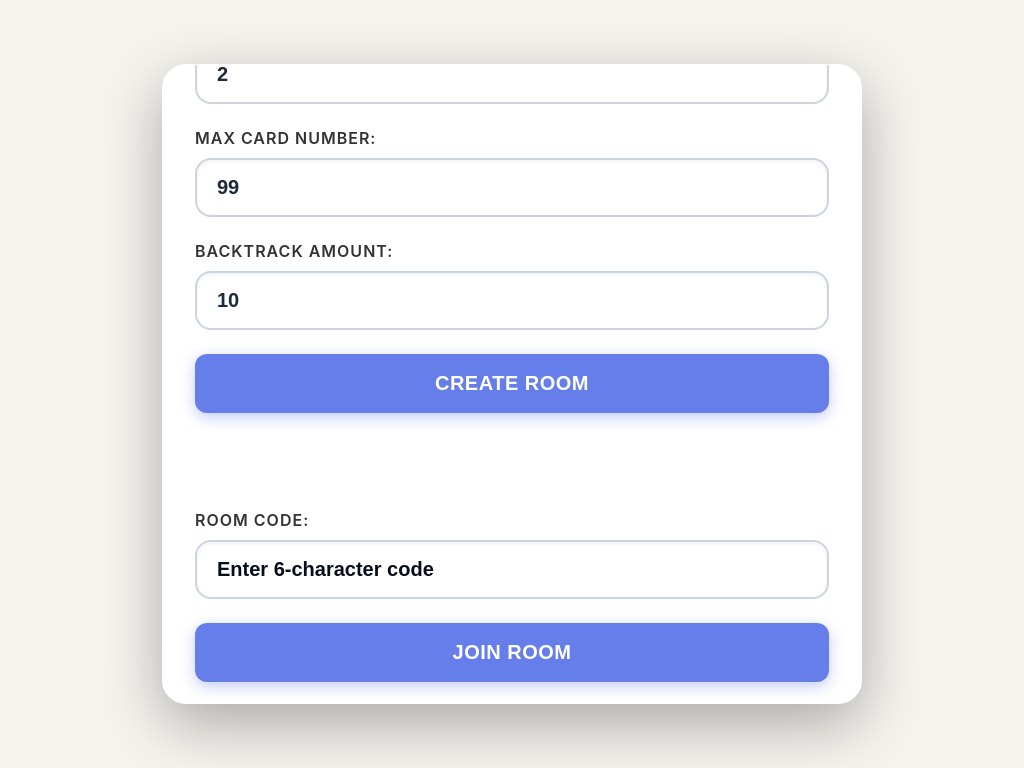
Test case: App Component Integration › shows error if name is missing when creating room
(page scrolled)
Click the button "Create Room". click: (512, 384)
box: [195, 354, 829, 413]
(page scrolled)
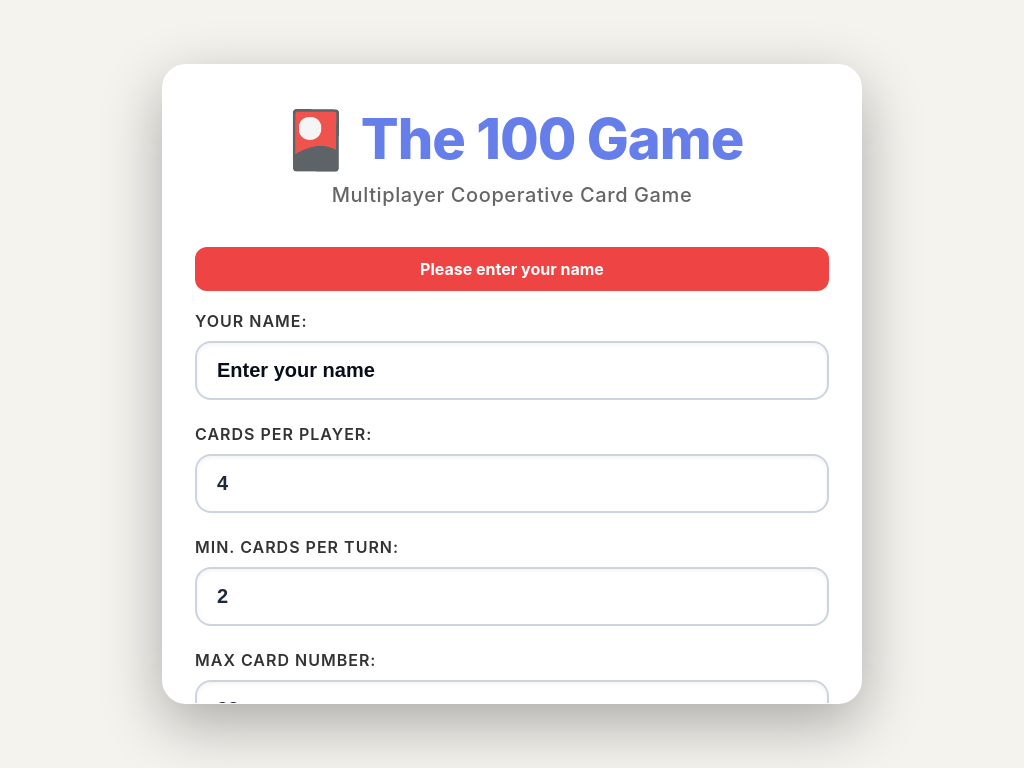
Expected: the text "Please enter your name" is shown, [195, 247, 829, 291]
